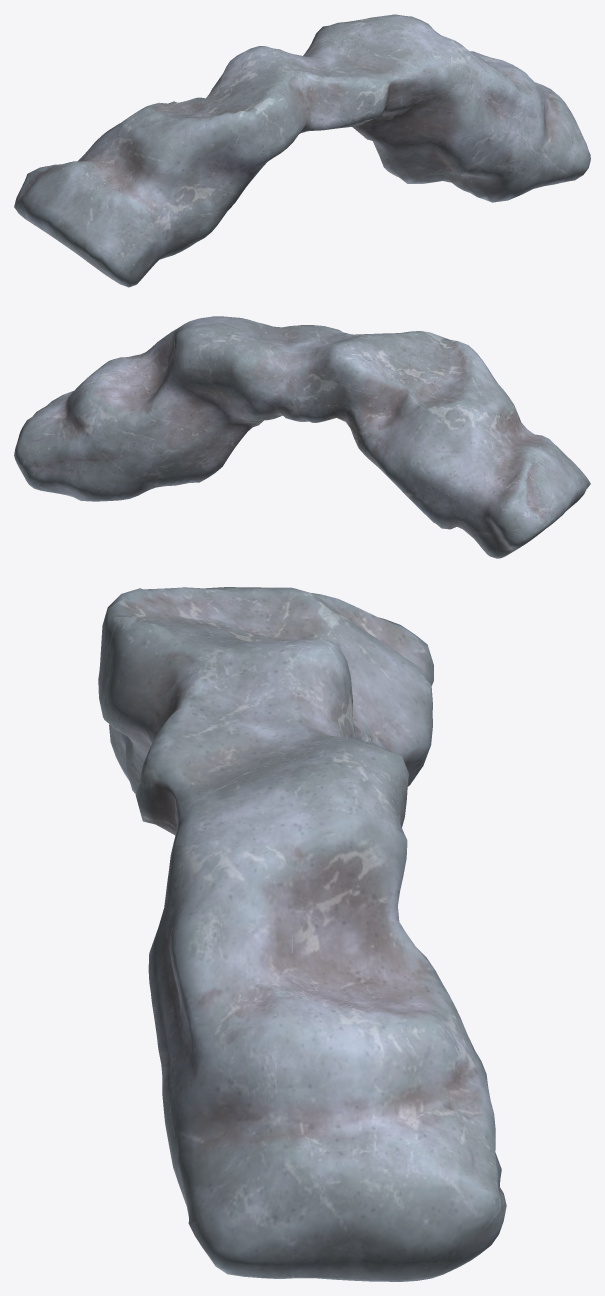
Rendered from arch_rock.glb.
The picture shows the model from 3 angles, top to bottom: view 1: azimuth 30°, elevation 25°; view 2: azimuth 150°, elevation 25°; view 3: azimuth 270°, elevation 25°; orthographic projection. The views are drawn at different scales.
Visible parts, largest first — view 1: LP; view 2: LP; view 3: LP.
Part boxes in pixels (left/top/right/bottom): LP: left=14, top=14, right=590, bottom=287; LP: left=14, top=316, right=590, bottom=558; LP: left=98, top=587, right=506, bottom=1281.
Bounding box in the file's own units: 40.14 × 13.63 × 13.54.
Materials: 1 (1 with a texture image).
